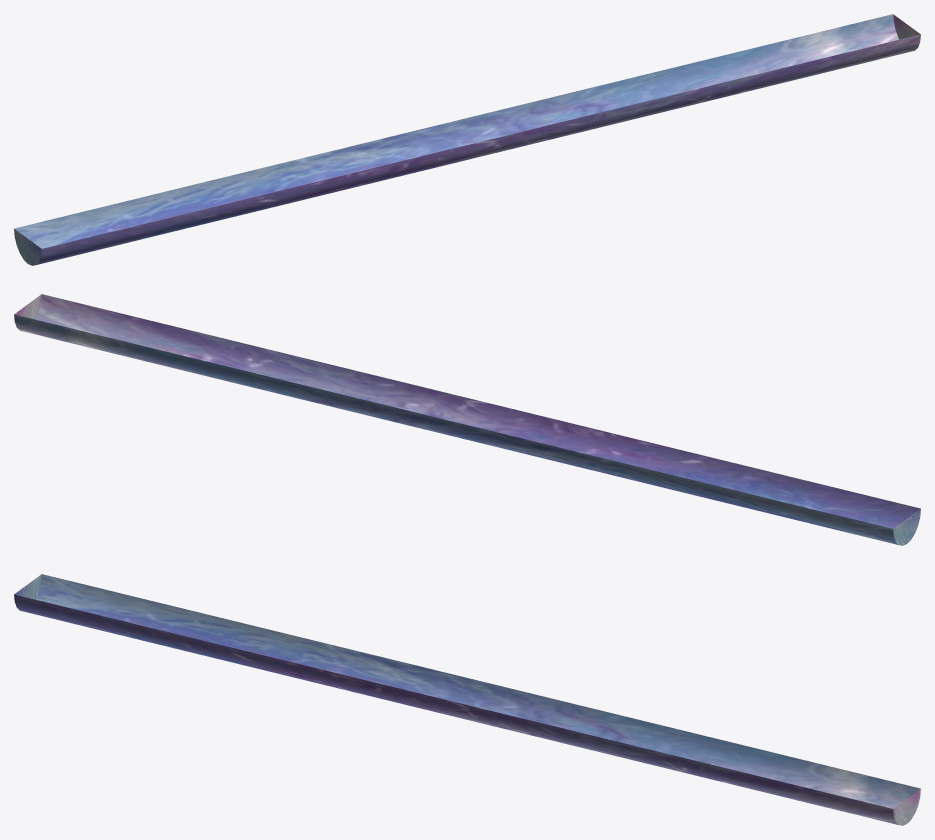
The model's file is gutter3.obj.
3 renders of one model, top to bottom at view 1: azimuth 30°, elevation 25°; view 2: azimuth 150°, elevation 25°; view 3: azimuth 330°, elevation 25°, orthographic.
Visible parts, largest first — view 1: pCylinder1; view 2: pCylinder1; view 3: pCylinder1.
Boxes of the visible parts, box(x1,y1,x2,y2) form: pCylinder1: box(14, 14, 920, 265); pCylinder1: box(14, 294, 920, 545); pCylinder1: box(14, 574, 920, 825).
Bounding box in the file's own units: 118 × 3.24 × 6.49.
Materials: 1 (1 with a texture image).
